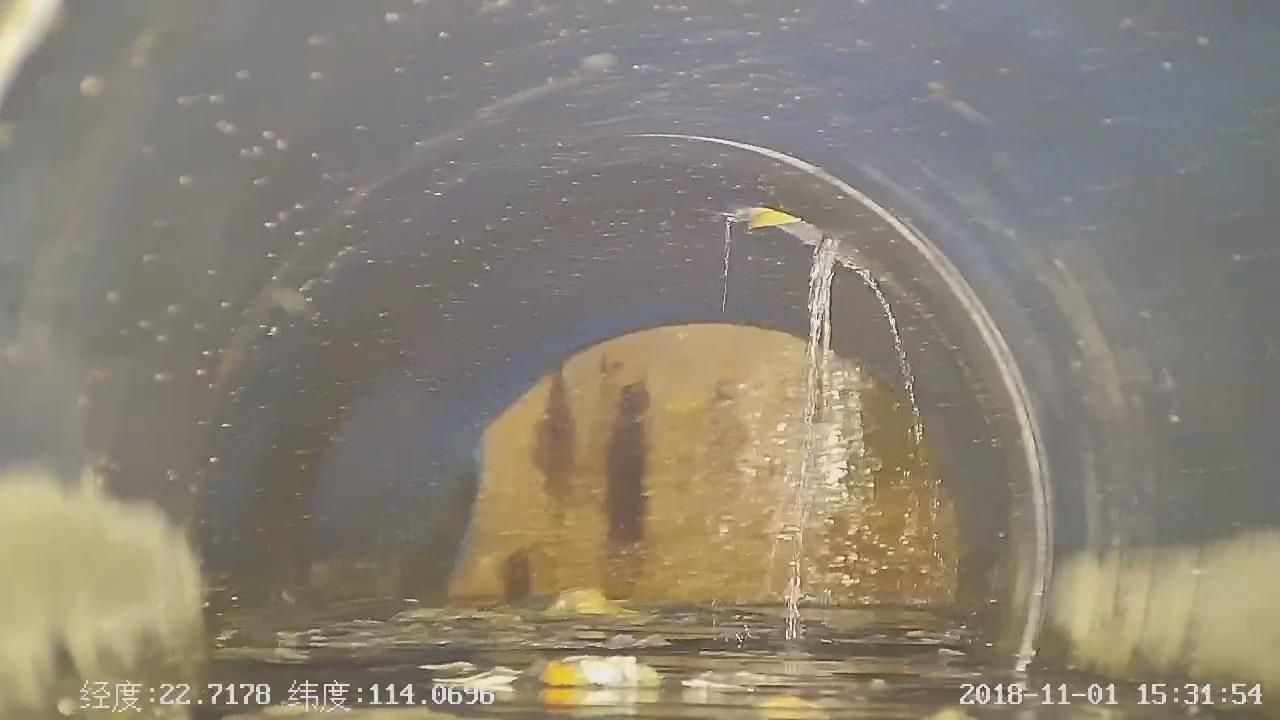SL: (770, 219, 945, 645)
